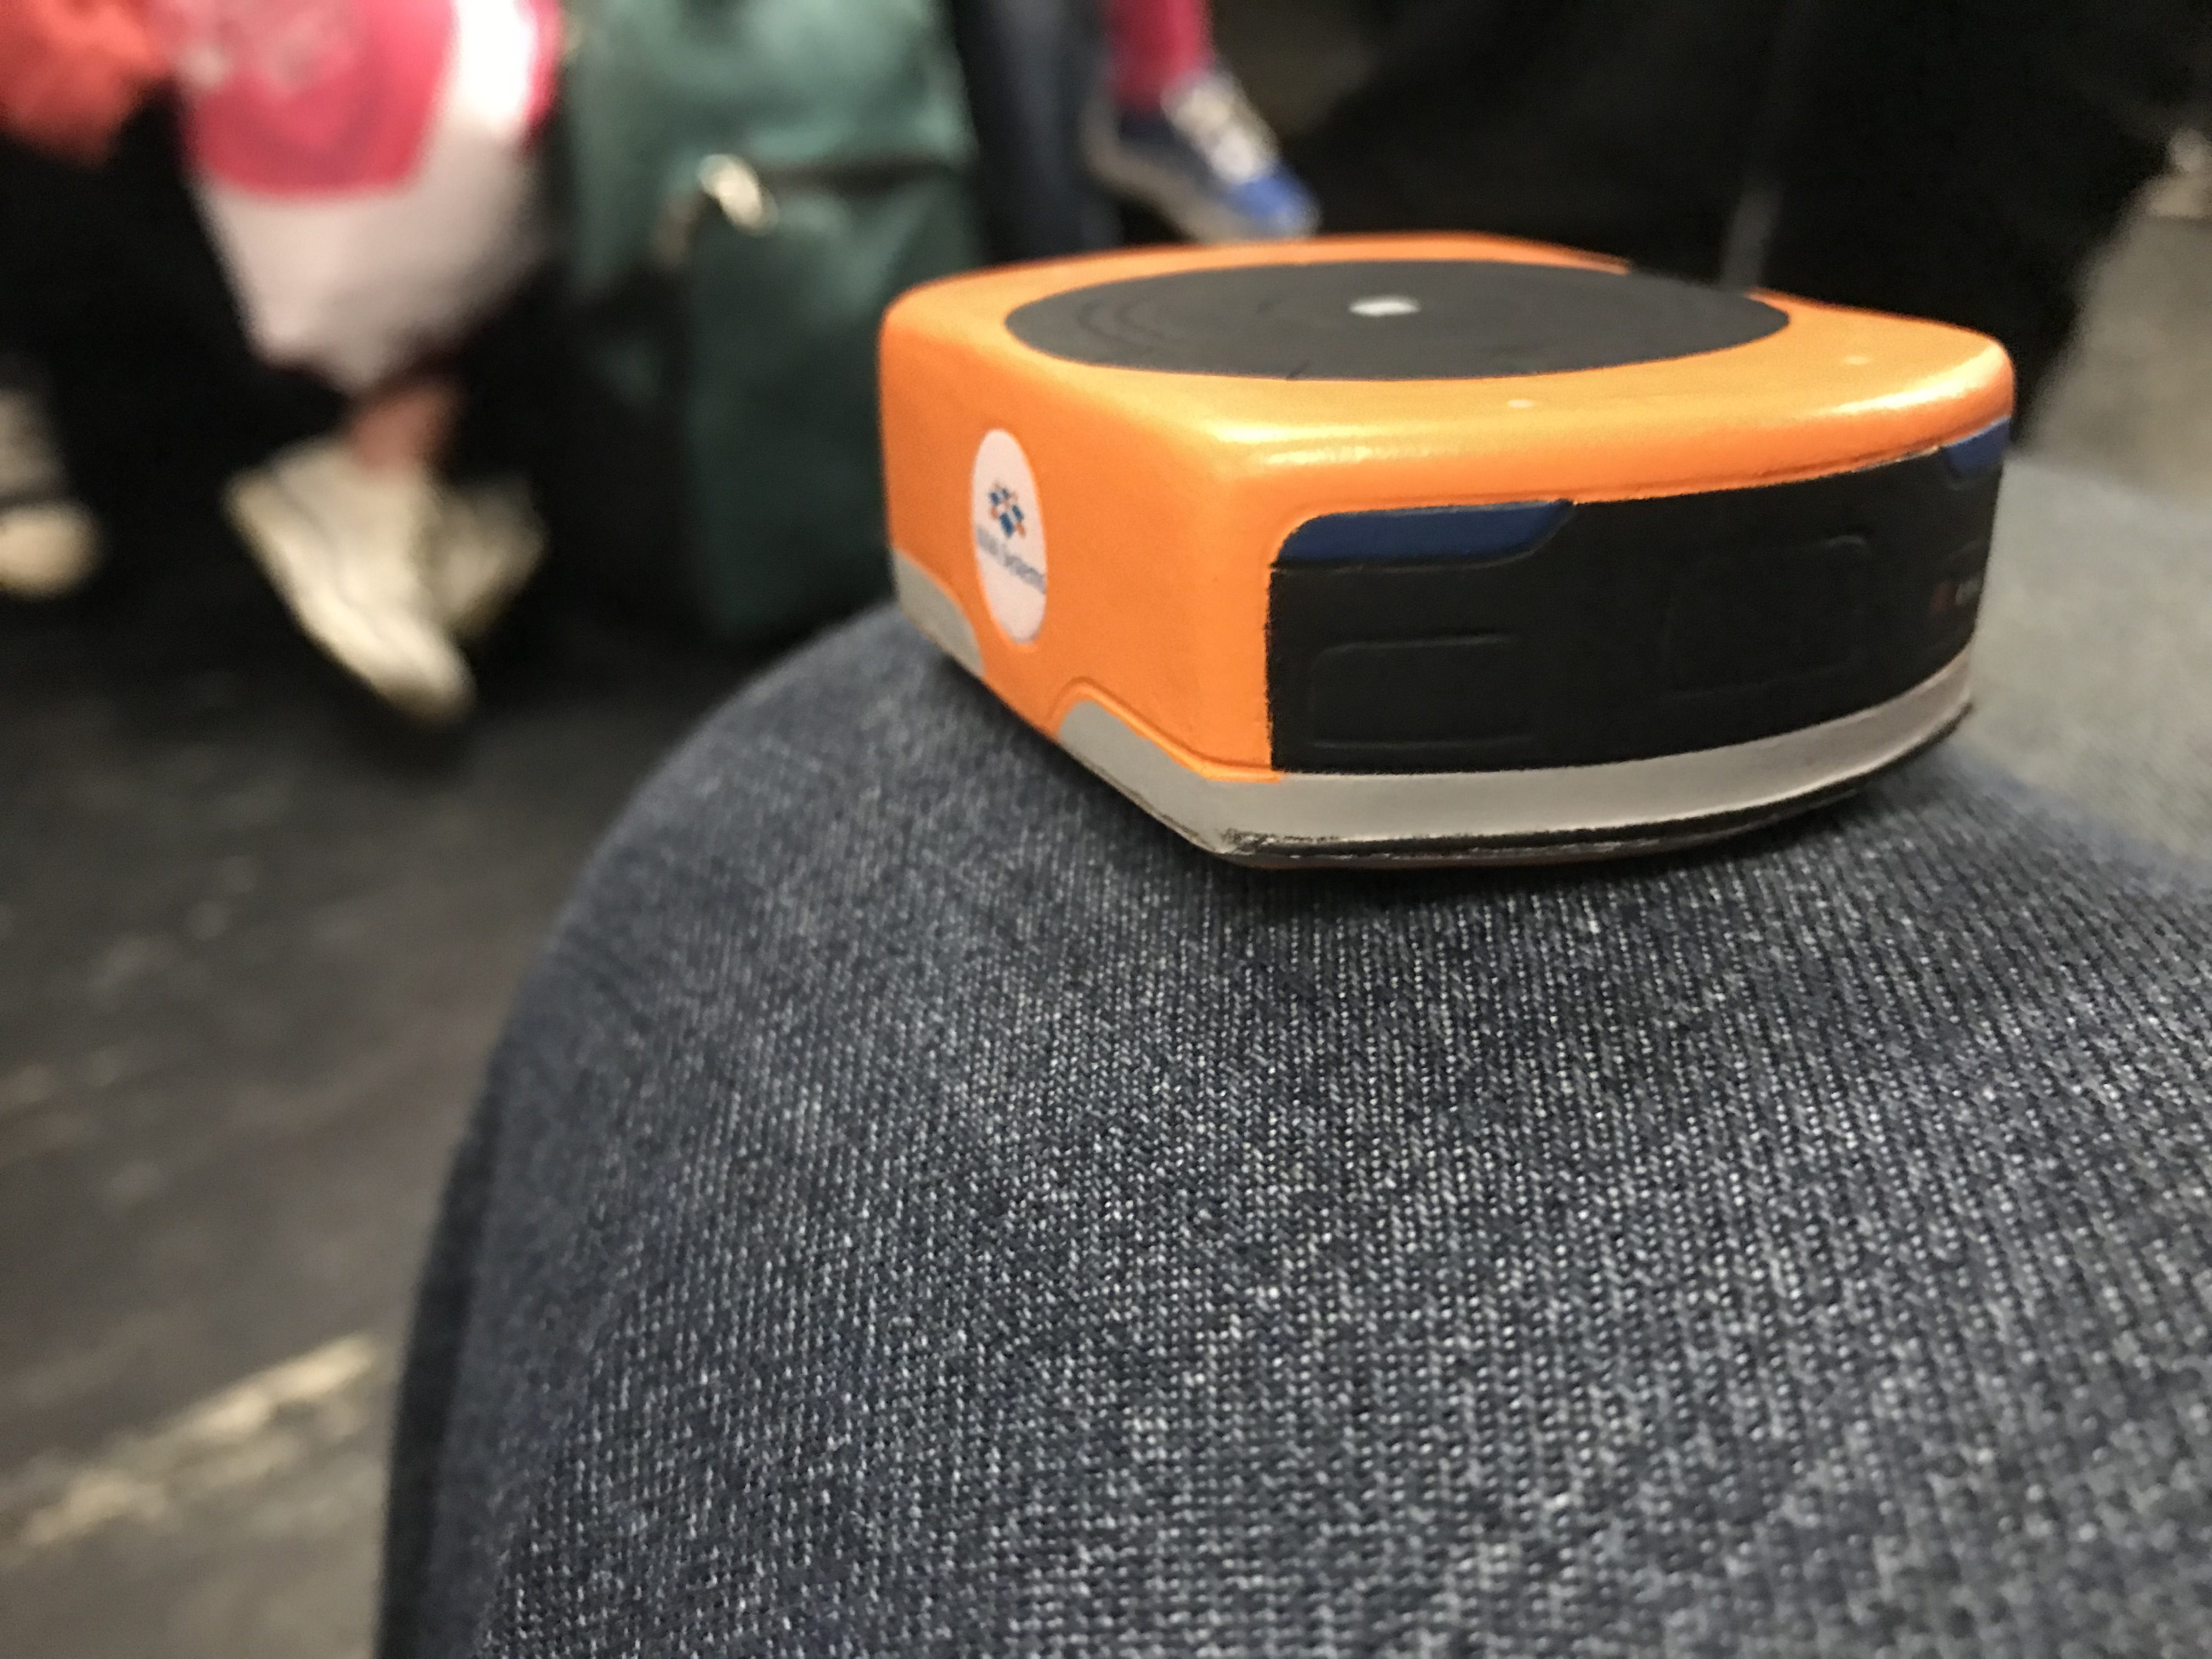amazon_bot: (841, 216, 2020, 884)
